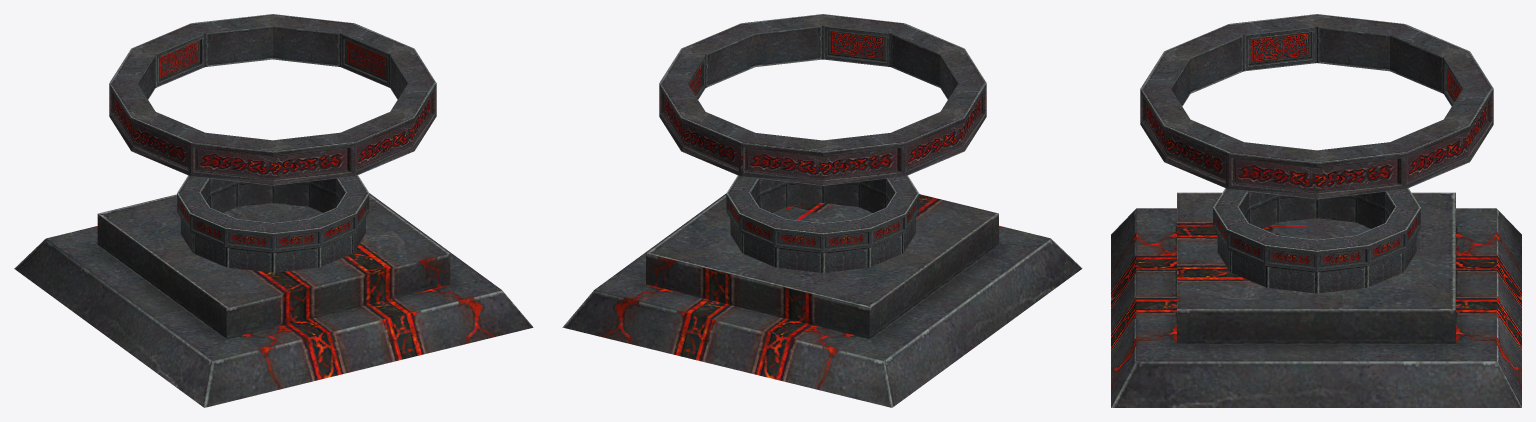
The model's file is 3st_main_obj.fbx.
The picture shows the model from 3 angles, left to right: view 1: azimuth 30°, elevation 25°; view 2: azimuth 150°, elevation 25°; view 3: azimuth 270°, elevation 25°; orthographic projection. The views are drawn at different scales.
Parts seen in each view (by area): view 1: Object01; view 2: Object01; view 3: Object01.
Part boxes in pixels (x1=…): Object01: x1=14, y1=14, x2=533, y2=407; Object01: x1=562, y1=14, x2=1082, y2=407; Object01: x1=1111, y1=14, x2=1521, y2=407.
Size of the model in its own units: 16.36 by 11 by 16.36.
